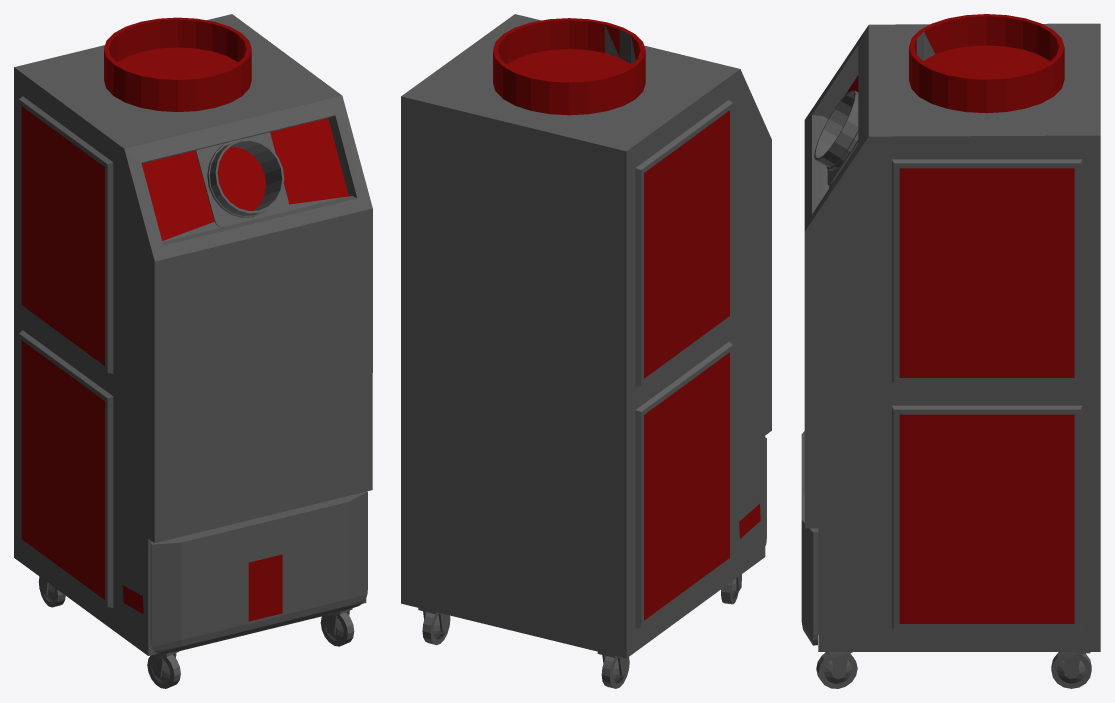
Rendered from airconditioner.fbx.
The picture shows the model from 3 angles, left to right: view 1: azimuth 30°, elevation 25°; view 2: azimuth 150°, elevation 25°; view 3: azimuth 270°, elevation 25°; orthographic projection. The views are drawn at different scales.
Parts seen in each view (by area): view 1: SM_AirConditioner02:UnrealEdObject; view 2: SM_AirConditioner02:UnrealEdObject; view 3: SM_AirConditioner02:UnrealEdObject.
Boxes of the visible parts, x1=… form: SM_AirConditioner02:UnrealEdObject: x1=14, y1=14, x2=372, y2=688; SM_AirConditioner02:UnrealEdObject: x1=401, y1=14, x2=771, y2=688; SM_AirConditioner02:UnrealEdObject: x1=801, y1=14, x2=1100, y2=688.
Size of the model in its own units: 36.51 by 86.67 by 39.7.
